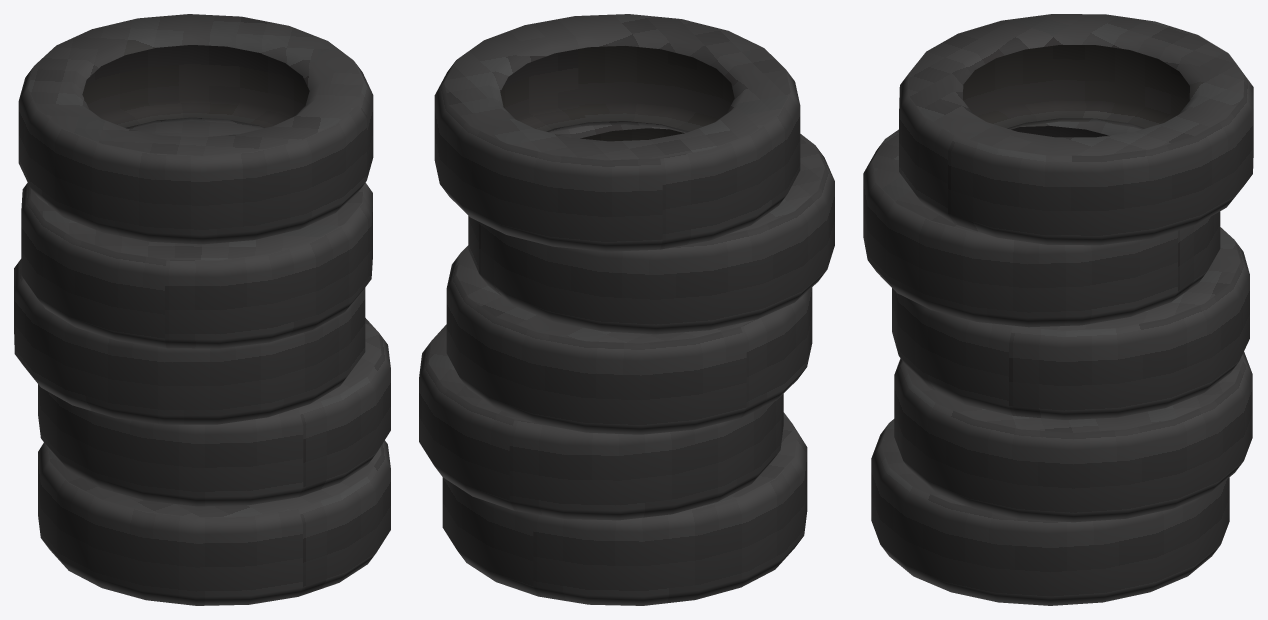
The model's file is objects_un_base_tiretower01.gltf.
3 renders of one model, left to right at view 1: azimuth 30°, elevation 25°; view 2: azimuth 150°, elevation 25°; view 3: azimuth 270°, elevation 25°, orthographic. The views are drawn at different scales.
Parts seen in each view (by area): view 1: objects_un_base_tiretower01_mesh_shape:objects_un_base_tiret; view 2: objects_un_base_tiretower01_mesh_shape:objects_un_base_tiret; view 3: objects_un_base_tiretower01_mesh_shape:objects_un_base_tiret.
Boxes of the visible parts, <box> form: objects_un_base_tiretower01_mesh_shape:objects_un_base_tiret: <box>14,14,390,605</box>; objects_un_base_tiretower01_mesh_shape:objects_un_base_tiret: <box>419,14,834,605</box>; objects_un_base_tiretower01_mesh_shape:objects_un_base_tiret: <box>863,14,1253,605</box>.
Size of what is drawn, in the model's own units: 0.7198 by 0.8952 by 0.7093.
Materials: 1 (1 with a texture image).
